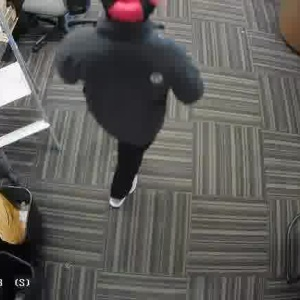person: (71, 1, 191, 199)
